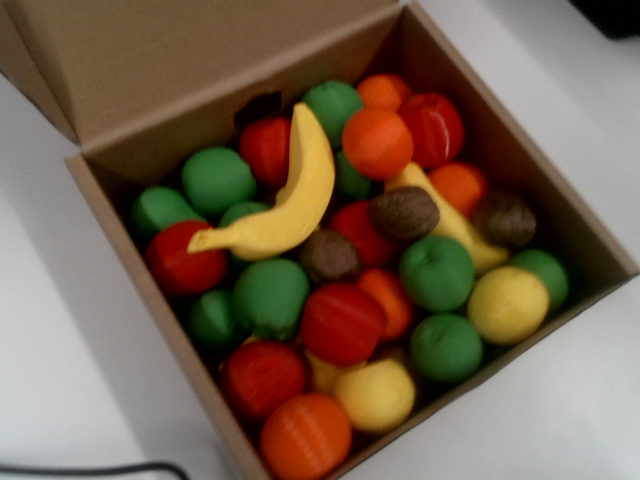Banana: (188, 103, 334, 260), (385, 163, 508, 276)
Crvena jabuka: (300, 283, 385, 365), (221, 340, 305, 422), (145, 220, 228, 296), (398, 92, 463, 168), (239, 116, 289, 188)
Limun: (468, 266, 549, 344), (332, 358, 415, 433)
Naranca: (260, 393, 351, 479), (343, 107, 412, 180), (329, 200, 399, 267), (358, 268, 412, 341), (428, 162, 488, 218), (357, 73, 412, 110)
Orah: (368, 186, 439, 240), (472, 193, 536, 247), (299, 230, 361, 284)
Zelena jabuka: (232, 258, 310, 340), (398, 236, 474, 312), (182, 148, 256, 218), (411, 314, 481, 382), (302, 80, 363, 148), (186, 290, 249, 355), (131, 186, 203, 240), (511, 249, 568, 310), (218, 202, 269, 227), (233, 256, 245, 266)
